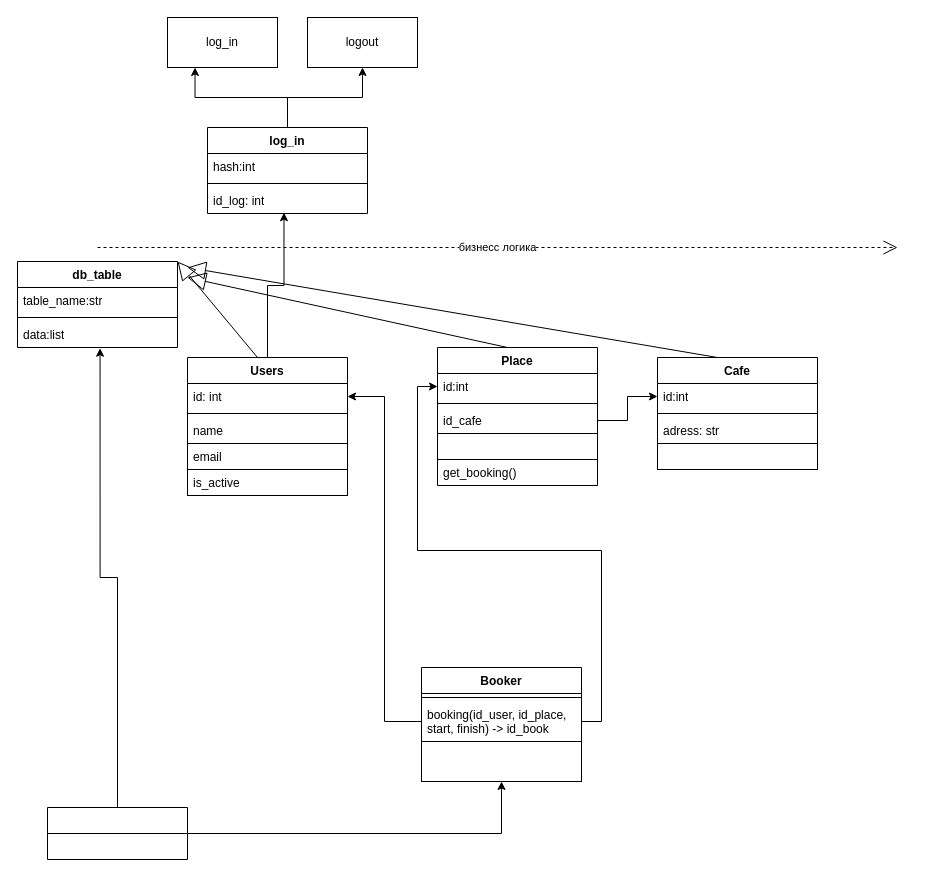
This 929x877 diagram has some shape labels left out. The centre of each missing label's shape, as x and y in pixels:
"Adapter" belongs at (x=117, y=833).
"bookout(id_book) ->bool" belongs at (x=501, y=761).
"get_open_hours()" belongs at (x=737, y=456).
"name: str" belongs at (x=517, y=446).
